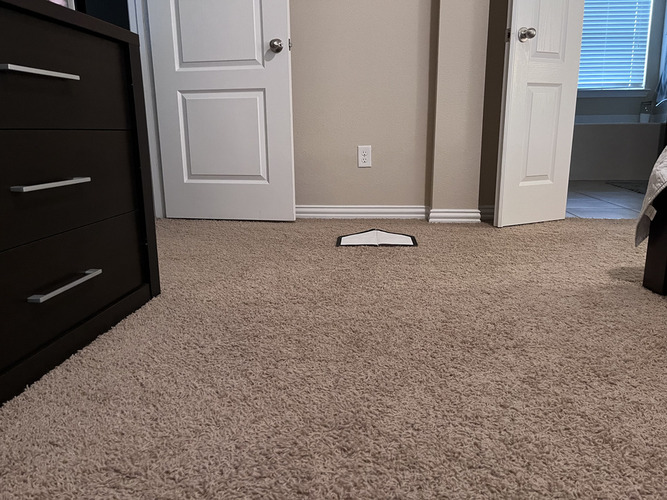homeplate: (334, 228, 418, 247)
